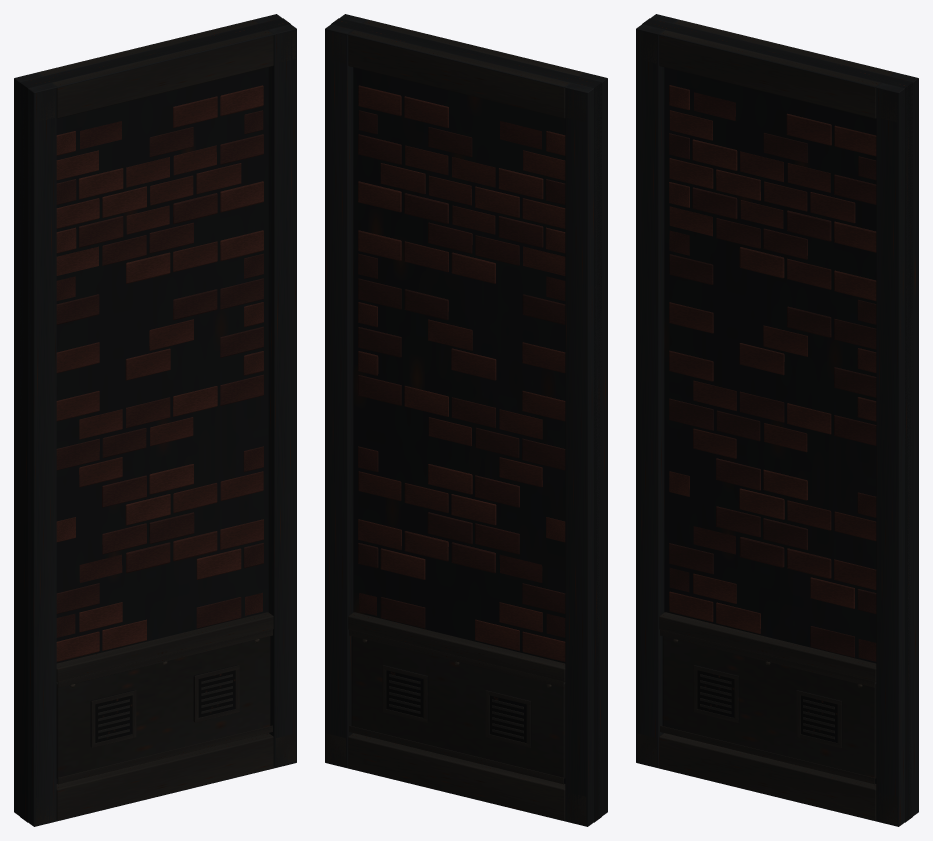
Rendered from STK_ENV_Street_Wall_1p2_A_Production_v10.glb.
3 renders of one model, left to right at view 1: azimuth 30°, elevation 25°; view 2: azimuth 150°, elevation 25°; view 3: azimuth 330°, elevation 25°, orthographic.
Parts seen in each view (by area): view 1: WallCore, Frame_Left, Frame_Right, ServicePanel, Frame_Header, Frame_Footer, Profile_Left_Cap, Rear_Frame_Left, Brick_LowerTrim, ServicePanel_BottomLip, Profile_Top_Cap, ServicePanel_TopLip (+61 smaller); view 2: WallCore, Rear_Frame_Right, Rear_Frame_Left, Rear_ServicePanel, Profile_Left_Cap, Rear_Frame_Header, Rear_Frame_Footer, Frame_Left, Rear_Brick_LowerTrim, Rear_ServicePanel_BottomLip, Profile_Top_Cap, Rear_ServicePanel_TopLip (+62 smaller); view 3: WallCore, Frame_Left, Frame_Right, ServicePanel, Profile_Right_Cap, Frame_Header, Frame_Footer, Rear_Frame_Right, Brick_LowerTrim, ServicePanel_BottomLip, Profile_Top_Cap, ServicePanel_TopLip (+62 smaller).
Part boxes in pixels (box(x1,y1,x2,y2)): WallCore: box(20, 18, 290, 822); Frame_Left: box(28, 83, 56, 825); Frame_Right: box(268, 24, 296, 767); ServicePanel: box(56, 636, 270, 778); Frame_Header: box(52, 30, 273, 118); Frame_Footer: box(56, 733, 273, 820); Profile_Left_Cap: box(14, 78, 34, 826); Rear_Frame_Left: box(14, 73, 40, 814); Brick_LowerTrim: box(56, 612, 273, 682); ServicePanel_BottomLip: box(58, 725, 272, 784); Profile_Top_Cap: box(15, 14, 296, 93); ServicePanel_TopLip: box(58, 629, 272, 687); WallCore: box(331, 18, 601, 822); Rear_Frame_Right: box(325, 24, 353, 767); Rear_Frame_Left: box(565, 83, 593, 825); Rear_ServicePanel: box(351, 636, 565, 778); Profile_Left_Cap: box(587, 78, 607, 826); Rear_Frame_Header: box(348, 30, 569, 118); Rear_Frame_Footer: box(348, 733, 565, 820); Frame_Left: box(581, 73, 607, 814); Rear_Brick_LowerTrim: box(348, 612, 565, 682); Rear_ServicePanel_BottomLip: box(349, 725, 563, 784); Profile_Top_Cap: box(325, 14, 607, 93); Rear_ServicePanel_TopLip: box(349, 629, 563, 687); WallCore: box(642, 18, 912, 822); Frame_Left: box(636, 24, 664, 767); Frame_Right: box(876, 83, 904, 825); ServicePanel: box(662, 636, 876, 778); Profile_Right_Cap: box(898, 78, 918, 826); Frame_Header: box(659, 30, 880, 118); Frame_Footer: box(659, 733, 876, 820); Rear_Frame_Right: box(892, 73, 918, 814); Brick_LowerTrim: box(659, 612, 876, 682); ServicePanel_BottomLip: box(660, 725, 874, 784); Profile_Top_Cap: box(636, 14, 918, 93); ServicePanel_TopLip: box(660, 629, 874, 687).
Bounding box in the file's own units: 1.2 × 3.2 × 0.16.
12 materials, 12 textured.
